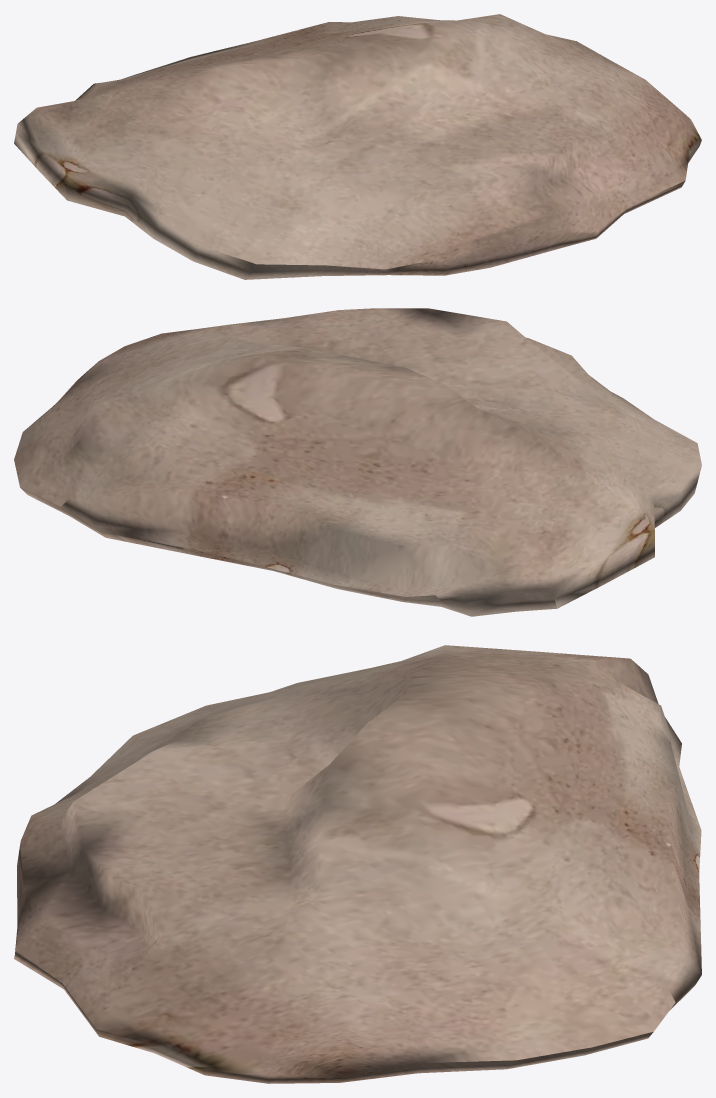
3 views of the same model, one above another, from view 1: azimuth 30°, elevation 25°; view 2: azimuth 150°, elevation 25°; view 3: azimuth 270°, elevation 25° (orthographic). The views are drawn at different scales.
Visible parts, largest first — view 1: body0_model0_lod0_mesh0; view 2: body0_model0_lod0_mesh0; view 3: body0_model0_lod0_mesh0.
Part boxes in pixels (left/top/right/bottom): body0_model0_lod0_mesh0: left=14, top=14, right=701, bottom=279; body0_model0_lod0_mesh0: left=14, top=308, right=701, bottom=616; body0_model0_lod0_mesh0: left=14, top=645, right=701, bottom=1083.
Size of the model in its own units: 92.05 by 19.56 by 70.45.
1 material, 1 textured.
